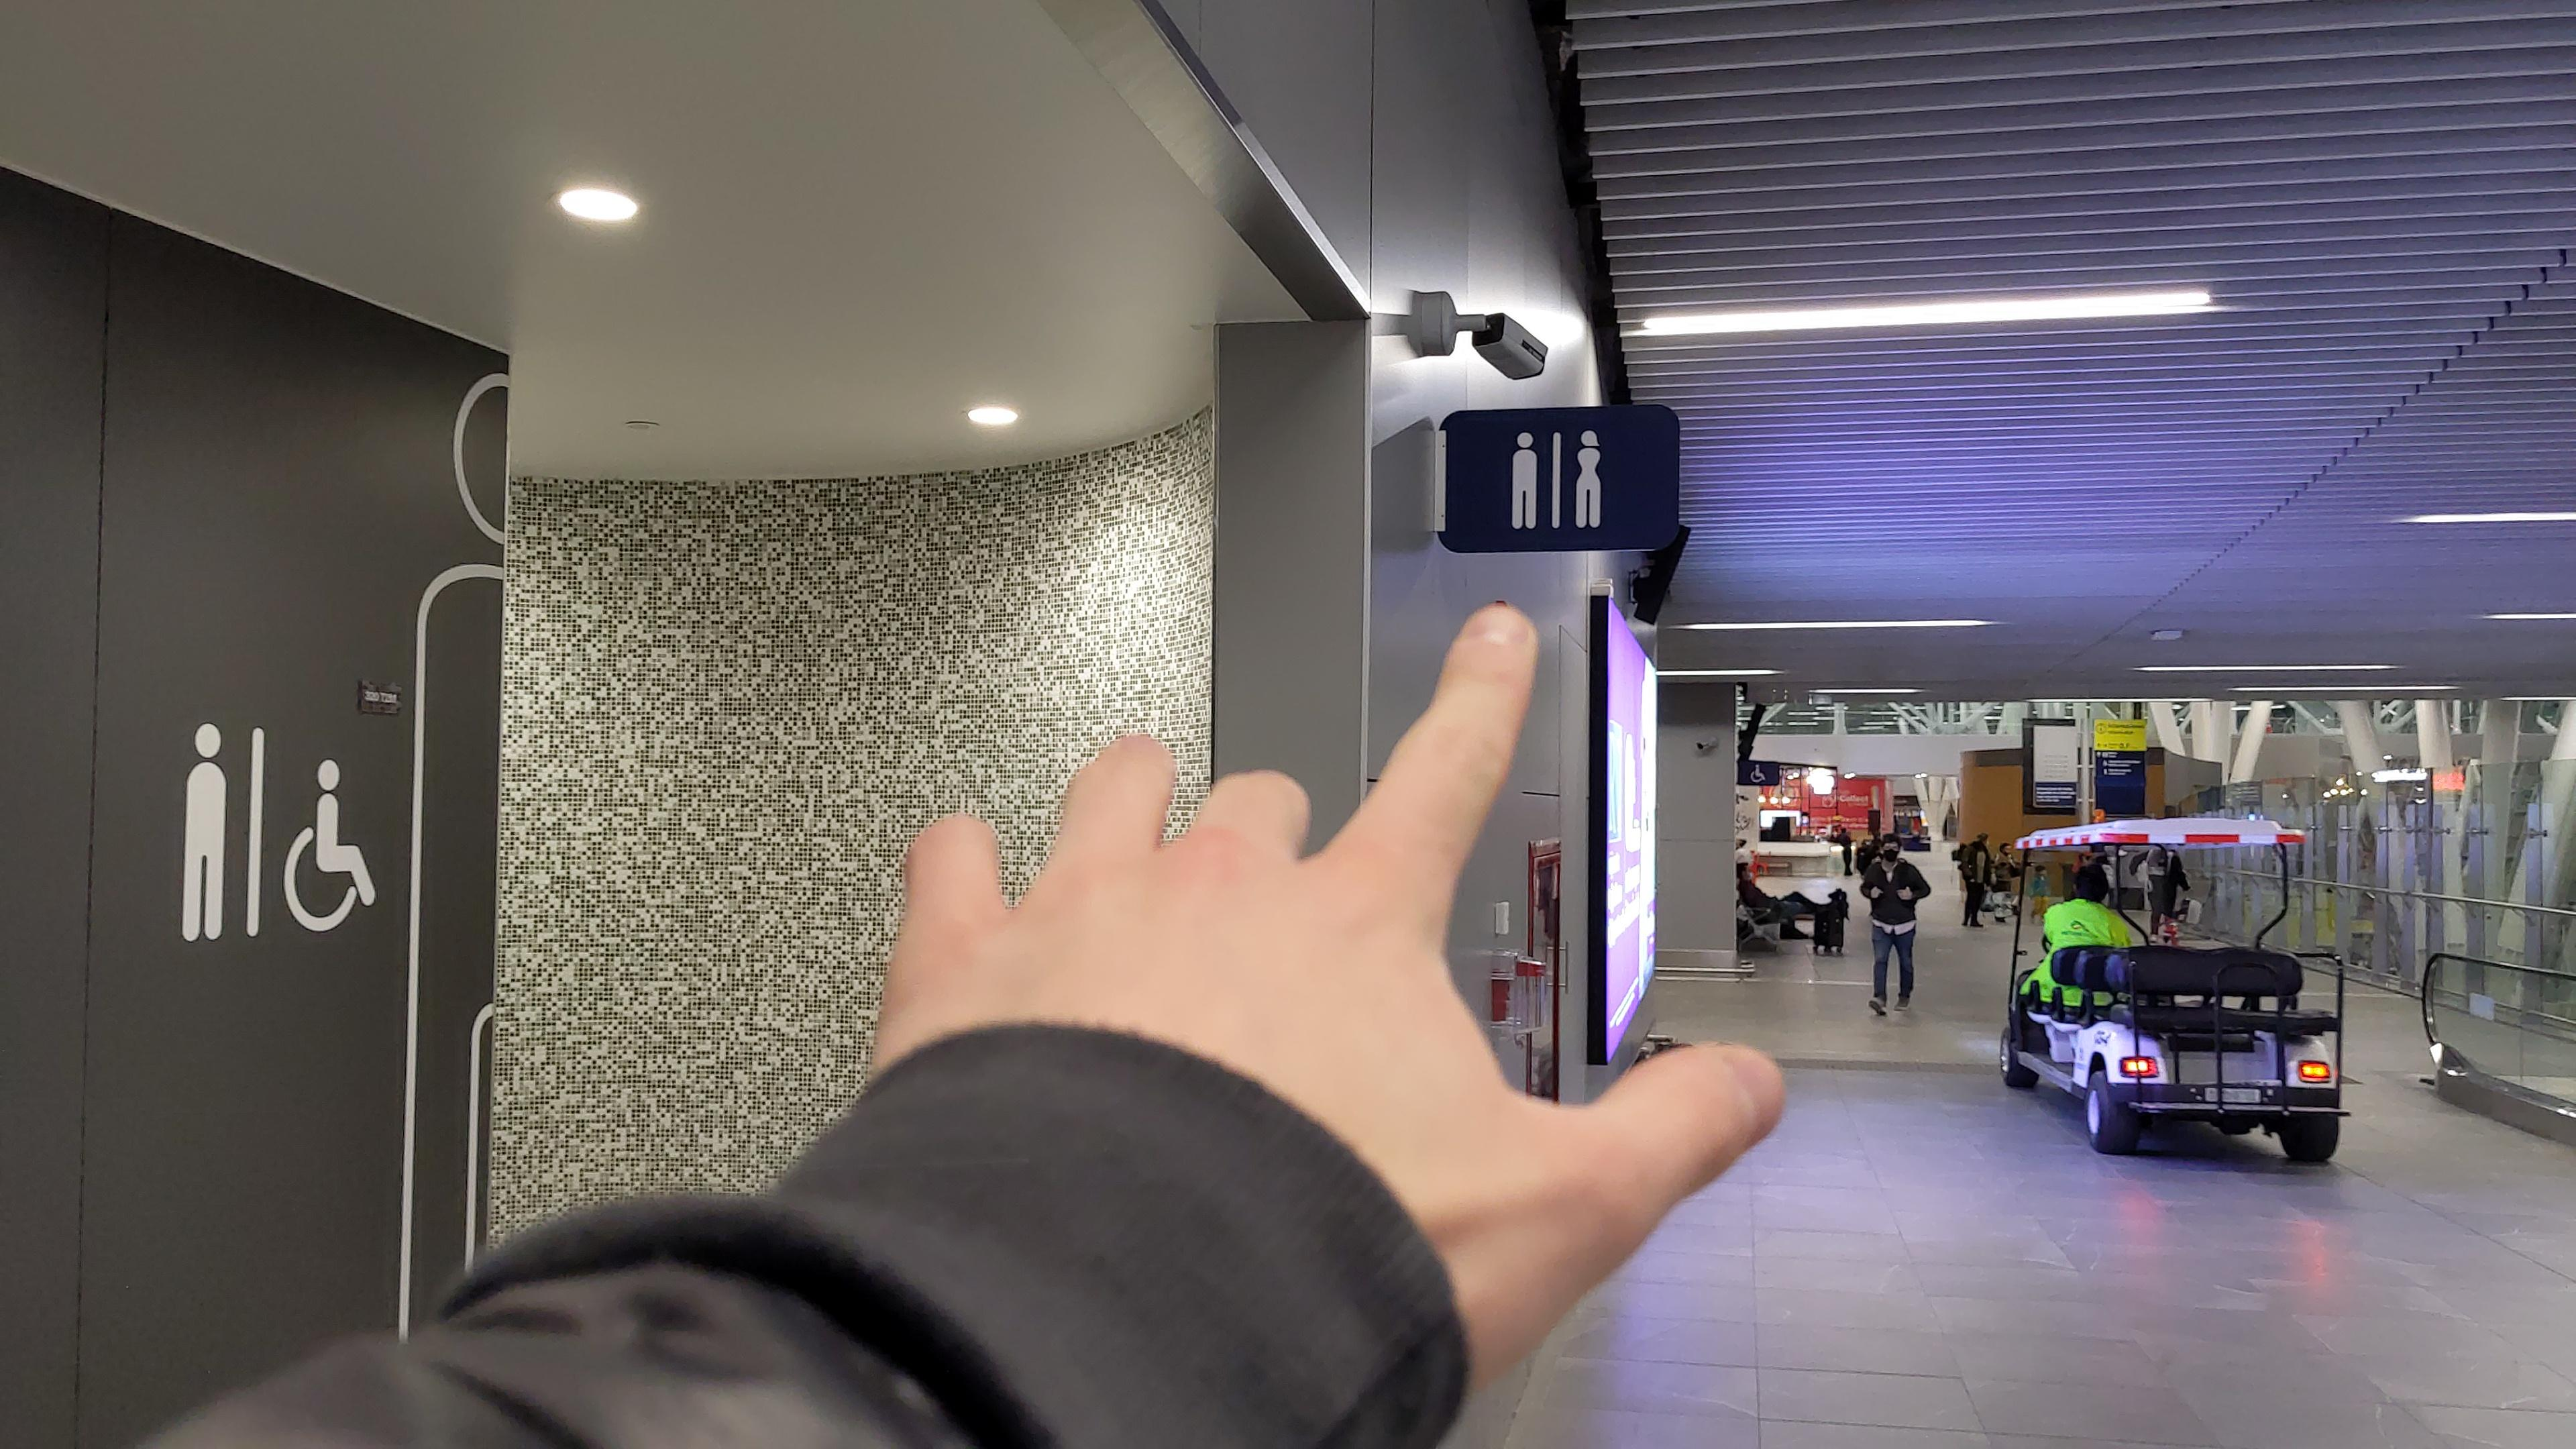bathrooms: (1497, 423, 1612, 534)
handicapped symbol: (278, 752, 380, 938)
